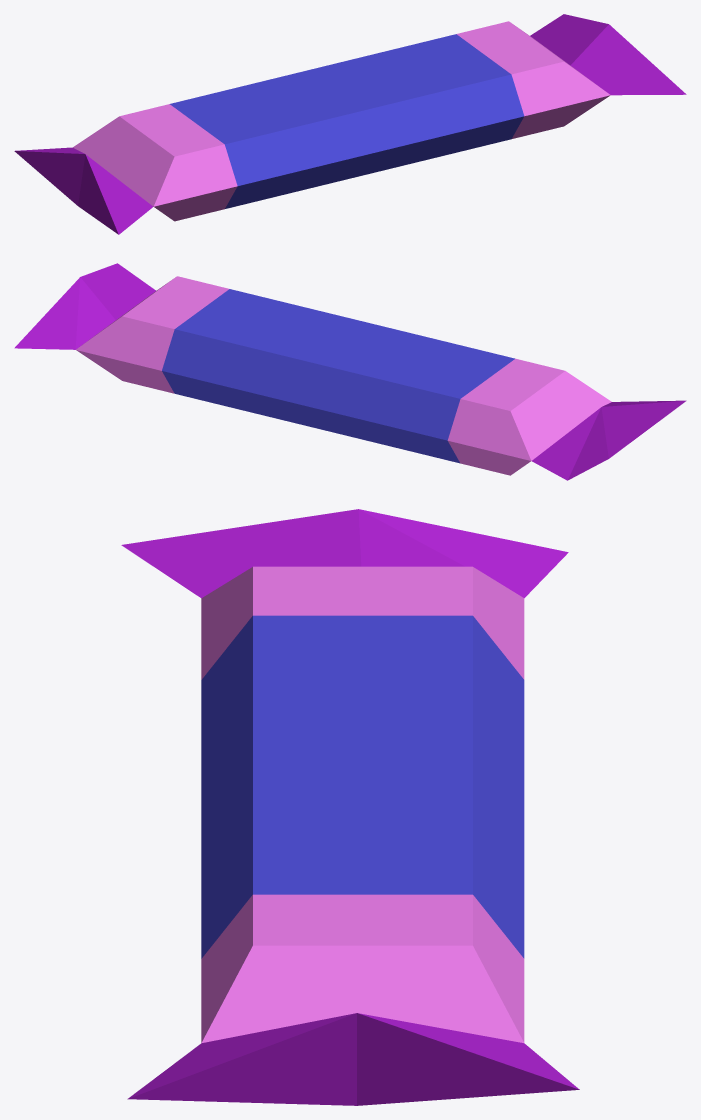
The model's file is CandyBar_3D.glb.
3 views of the same model, one above another, from view 1: azimuth 30°, elevation 25°; view 2: azimuth 150°, elevation 25°; view 3: azimuth 270°, elevation 25° (orthographic). The views are drawn at different scales.
Visible parts, largest first — view 1: cerealbar (1); view 2: cerealbar (1); view 3: cerealbar (1).
Boxes of the visible parts, left/top/right/bottom form: cerealbar (1): left=14, top=14, right=686, bottom=234; cerealbar (1): left=14, top=263, right=686, bottom=480; cerealbar (1): left=121, top=509, right=579, bottom=1105.
Size of the model in its own units: 0.1993 by 0.022 by 0.0698.
Materials: 1 (1 with a texture image).
